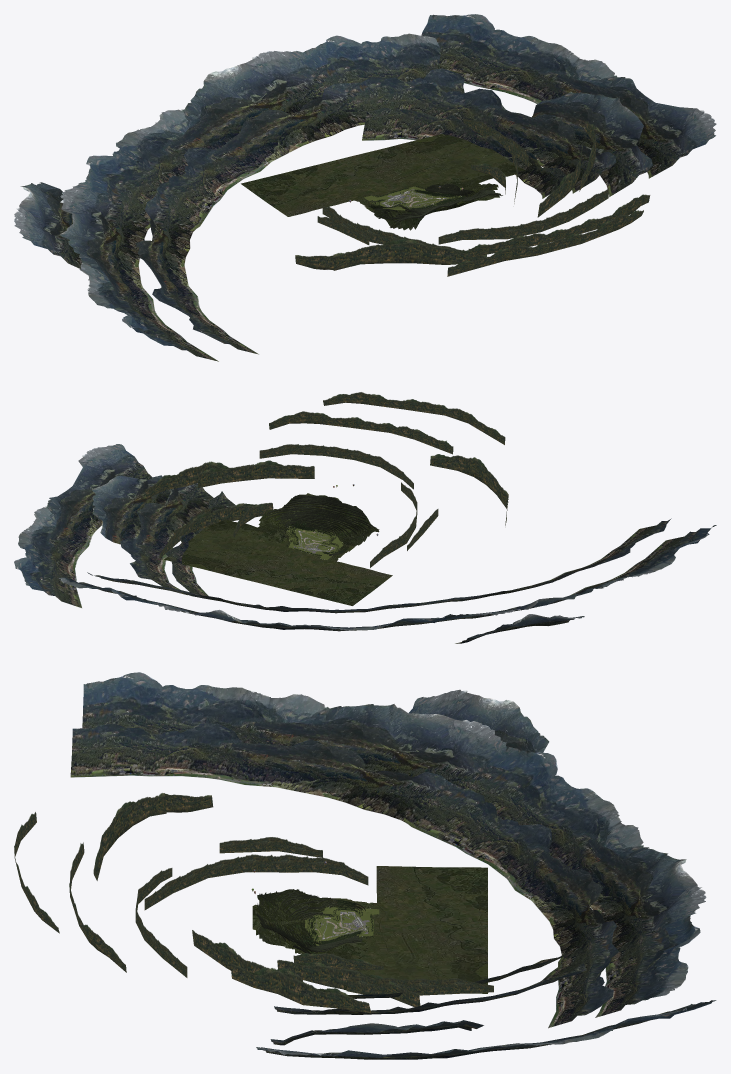
Rendered from redbull_ring.glb.
3 views of the same model, one above another, from view 1: azimuth 30°, elevation 25°; view 2: azimuth 150°, elevation 25°; view 3: azimuth 270°, elevation 25° (orthographic). The views are drawn at different scales.
Visible parts, largest first — view 1: rbring_0; view 2: rbring_0; view 3: rbring_0.
Part boxes in pixels (left/top/right/bottom): rbring_0: left=14, top=14, right=716, bottom=361; rbring_0: left=14, top=392, right=716, bottom=643; rbring_0: left=14, top=672, right=716, bottom=1059.
Bounding box in the file's own units: 16384 × 2018 × 12986.
Materials: 100 (99 with a texture image).
